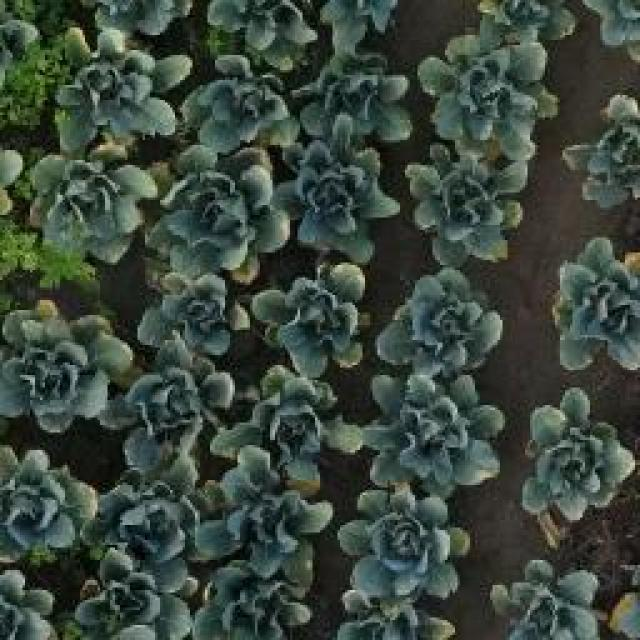cabbage: (366, 374, 496, 492), (53, 38, 180, 144), (112, 374, 230, 486), (158, 150, 268, 268), (420, 35, 530, 153), (521, 394, 623, 521), (31, 156, 151, 262), (263, 262, 375, 373), (6, 311, 110, 423), (89, 476, 210, 571), (233, 371, 349, 470), (290, 144, 390, 257), (350, 494, 463, 594), (210, 473, 330, 565), (182, 56, 306, 144), (72, 552, 194, 640), (140, 268, 246, 366), (0, 455, 95, 563), (387, 274, 495, 364), (414, 154, 516, 249), (557, 254, 640, 355), (497, 563, 602, 640), (314, 53, 408, 138), (204, 568, 314, 640), (577, 100, 640, 205), (201, 0, 313, 55), (0, 572, 62, 639), (475, 0, 572, 37)
